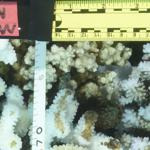alive: (2, 10, 148, 149)
